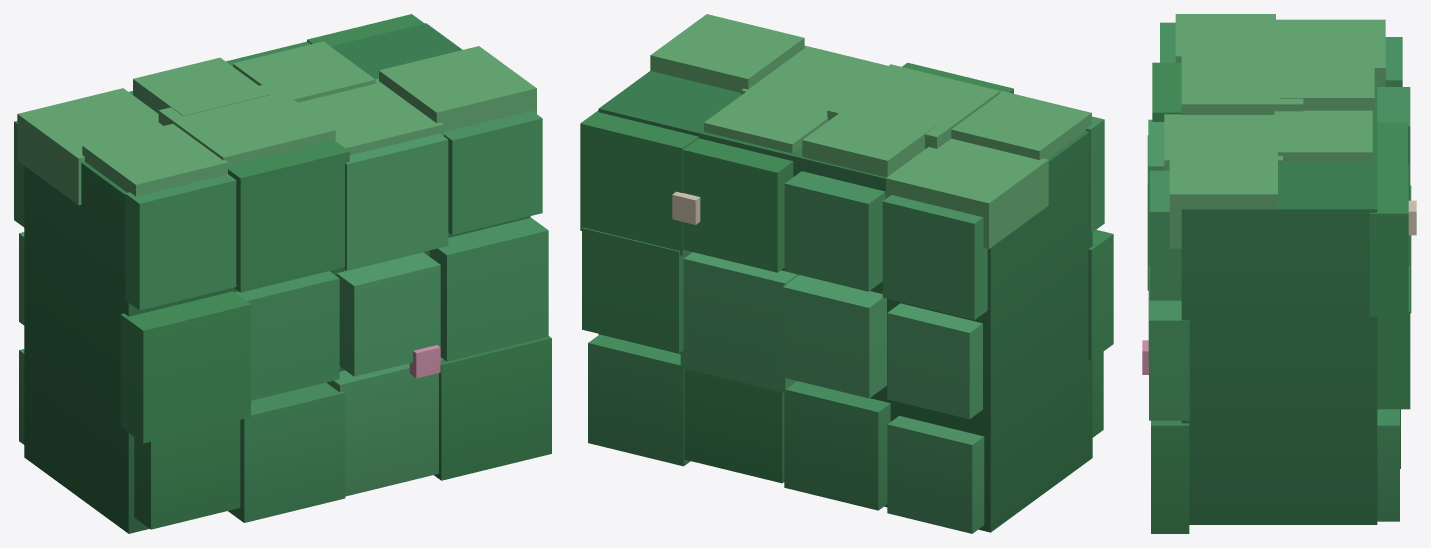
Rendered from hedge-2m-h1.6.glb.
3 renders of one model, left to right at view 1: azimuth 30°, elevation 25°; view 2: azimuth 150°, elevation 25°; view 3: azimuth 270°, elevation 25°, orthographic. The views are drawn at different scales.
Visible parts, largest first — view 1: hedge-2m-h1.6_body; view 2: hedge-2m-h1.6_body; view 3: hedge-2m-h1.6_body.
Part boxes in pixels (bbox=[...]): hedge-2m-h1.6_body: bbox=[14, 14, 551, 533]; hedge-2m-h1.6_body: bbox=[580, 14, 1113, 533]; hedge-2m-h1.6_body: bbox=[1142, 14, 1416, 533].
Size of the model in its own units: 2.04 by 1.72 by 1.26.
